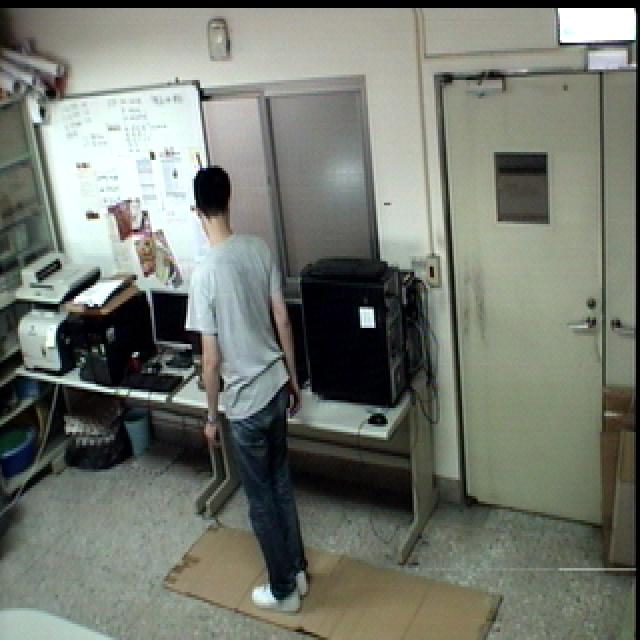stand: (182, 159, 321, 618)
